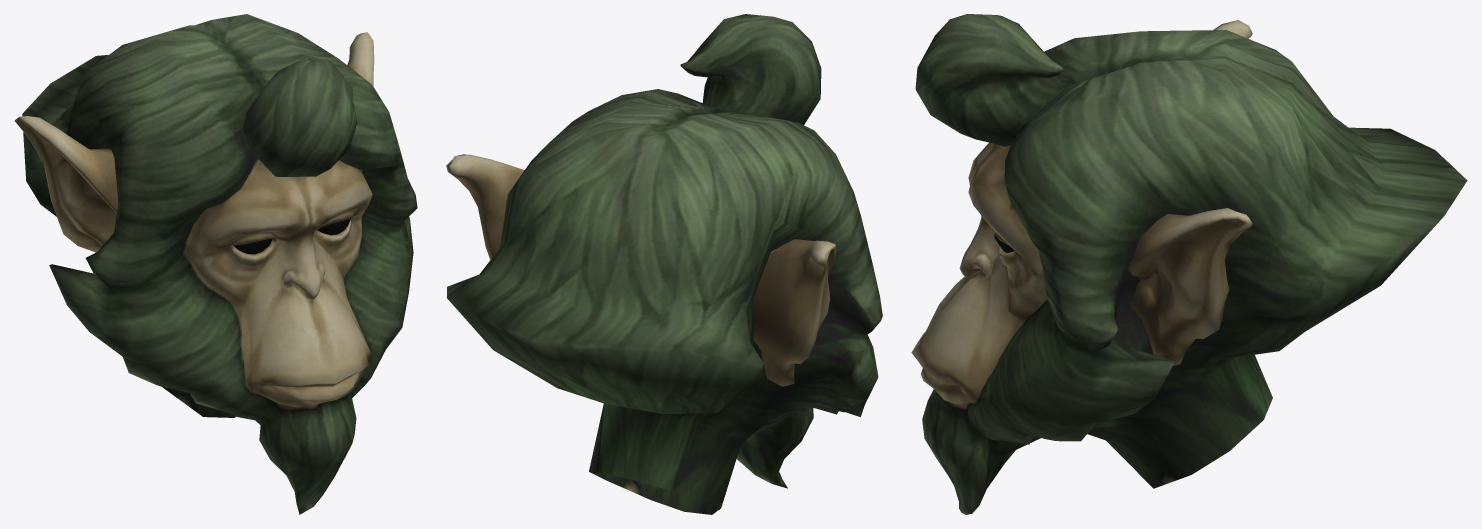
Rendered from bufki.glb.
3 views of the same model, side by side, from view 1: azimuth 30°, elevation 25°; view 2: azimuth 150°, elevation 25°; view 3: azimuth 270°, elevation 25° (orthographic). The views are drawn at different scales.
Visible parts, largest first — view 1: Object_7, Object_5; view 2: Object_7; view 3: Object_7.
Boxes of the visible parts, x1,y1,x2,y2 form: Object_7: (14, 14, 417, 514); Object_5: (245, 218, 350, 253); Object_7: (446, 14, 882, 514); Object_7: (911, 14, 1467, 514).
Size of the model in its own units: 0.226 by 0.2679 by 0.2682.
5 materials, 5 textured.
